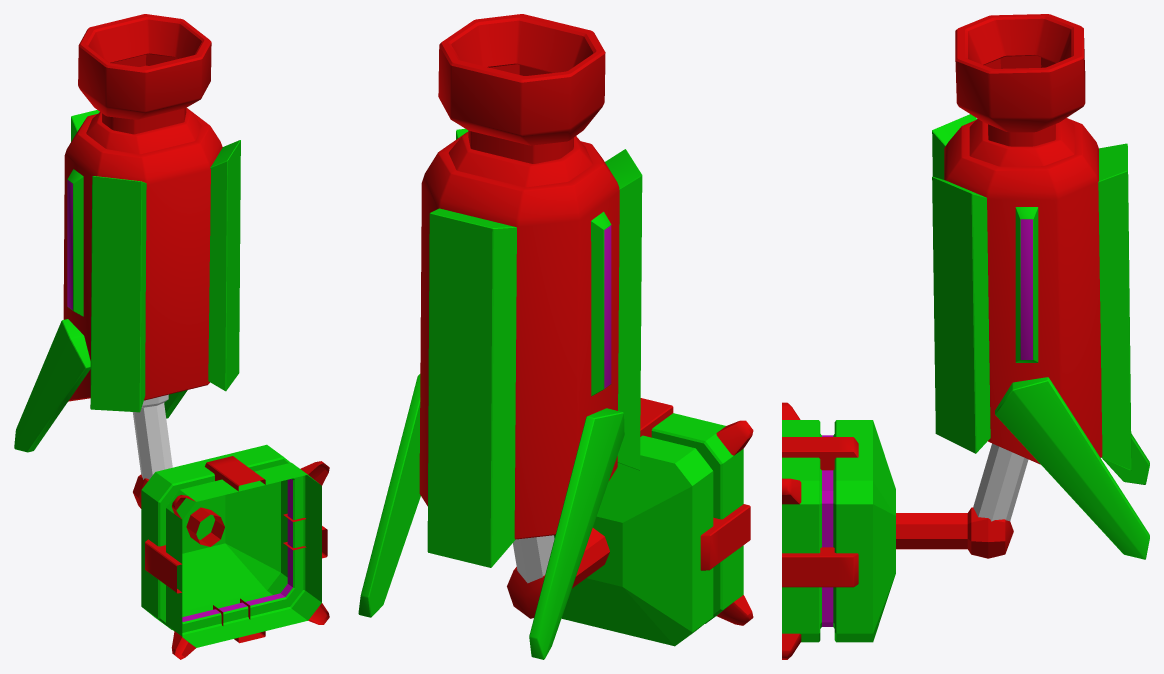
The model's file is MeCameraFixe_V2.FBX.
3 views of the same model, side by side, from view 1: azimuth 30°, elevation 25°; view 2: azimuth 150°, elevation 25°; view 3: azimuth 270°, elevation 25° (orthographic). The views are drawn at different scales.
Parts seen in each view (by area): view 1: Object001, Cam Support, Object002; view 2: Object001, Cam Support, Object002; view 3: Object001, Cam Support, Object002.
Boxes of the visible parts, <box> form: Object001: <box>14,14,240,452</box>; Cam Support: <box>133,444,329,659</box>; Object002: <box>132,394,172,479</box>; Object001: <box>358,14,642,659</box>; Cam Support: <box>507,398,753,646</box>; Object002: <box>513,535,554,583</box>; Object001: <box>932,14,1149,559</box>; Cam Support: <box>782,402,1013,659</box>; Object002: <box>973,443,1028,521</box>.
Bounding box in the file's own units: 22.42 × 41.23 × 71.71.
